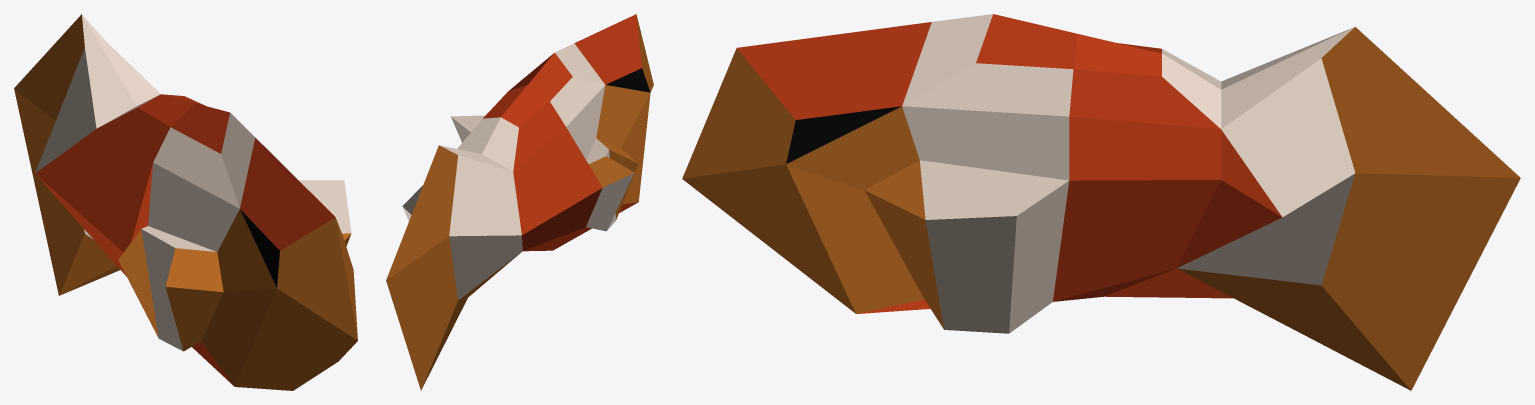
Rendered from nemokoi.fbx.
3 renders of one model, left to right at view 1: azimuth 30°, elevation 25°; view 2: azimuth 150°, elevation 25°; view 3: azimuth 270°, elevation 25°, orthographic. The views are drawn at different scales.
Parts seen in each view (by area): view 1: Cube; view 2: Cube; view 3: Cube.
Part boxes in pixels (x1,y1,x2,y2): Cube: (14, 14, 357, 390); Cube: (386, 14, 653, 390); Cube: (682, 14, 1520, 390).
Bounding box in the file's own units: 98.78 × 126 × 255.
